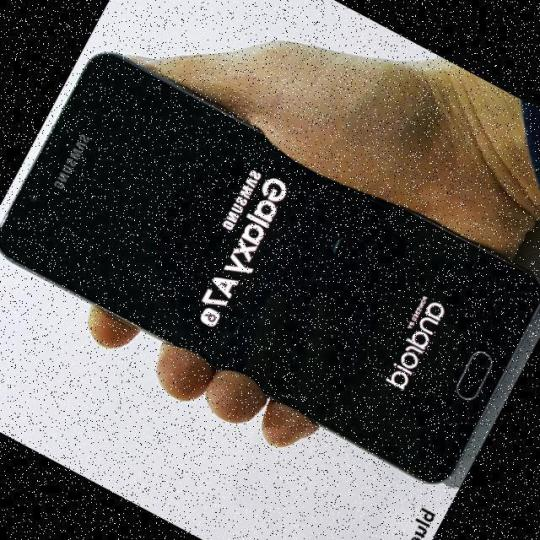phone: (3, 44, 540, 486)
